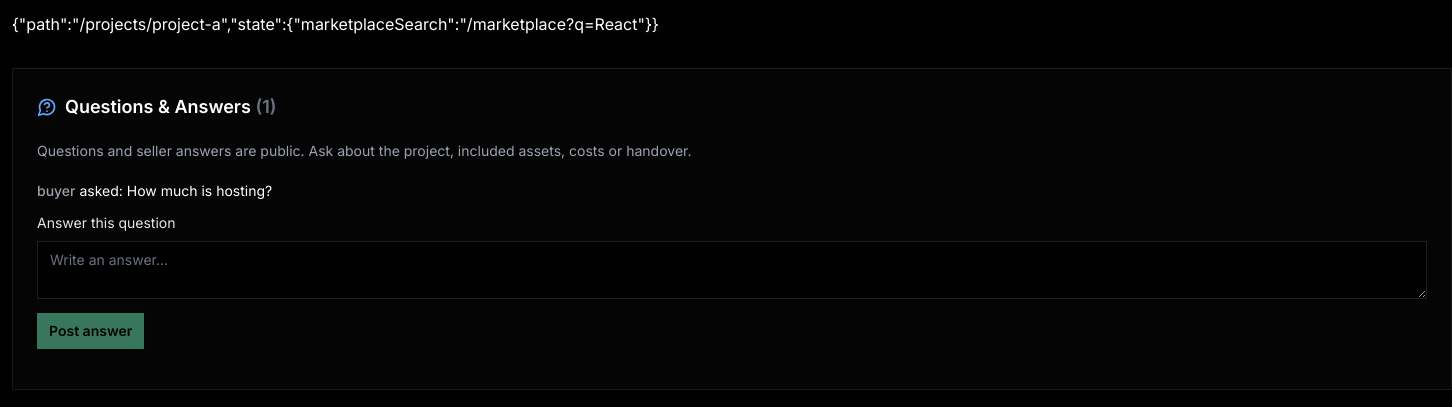
Test: pending seller answers cannot be submitted twice and failure keeps the answer
This screenshot has width=1452, height=407.
Type "Hosting is USD 12/month." into the text box labelled "Answer this question" at (732, 270), box [37,241,1427,299]
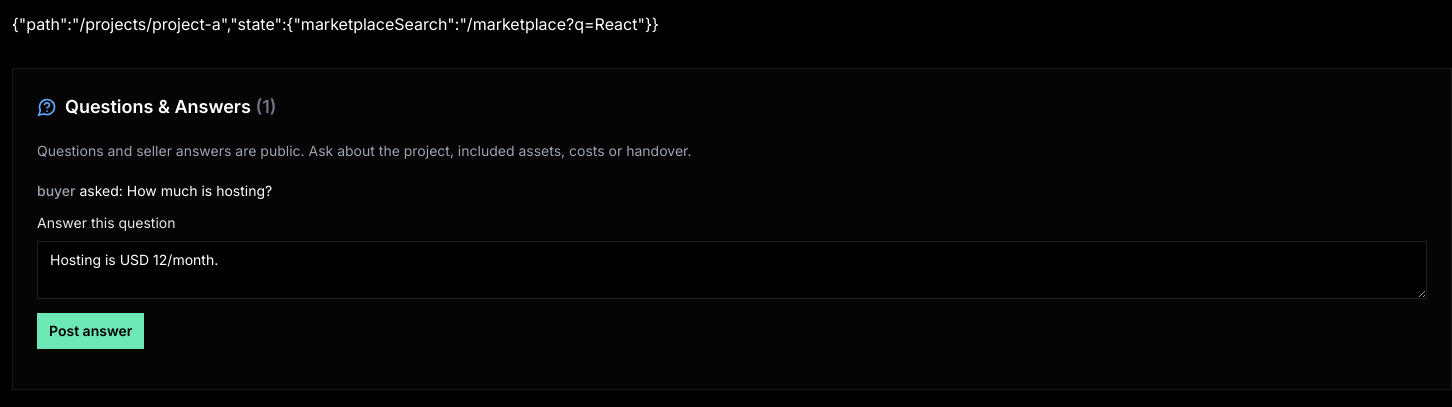
Click the button "Post answer" at (91, 331), box [37,313,144,349]
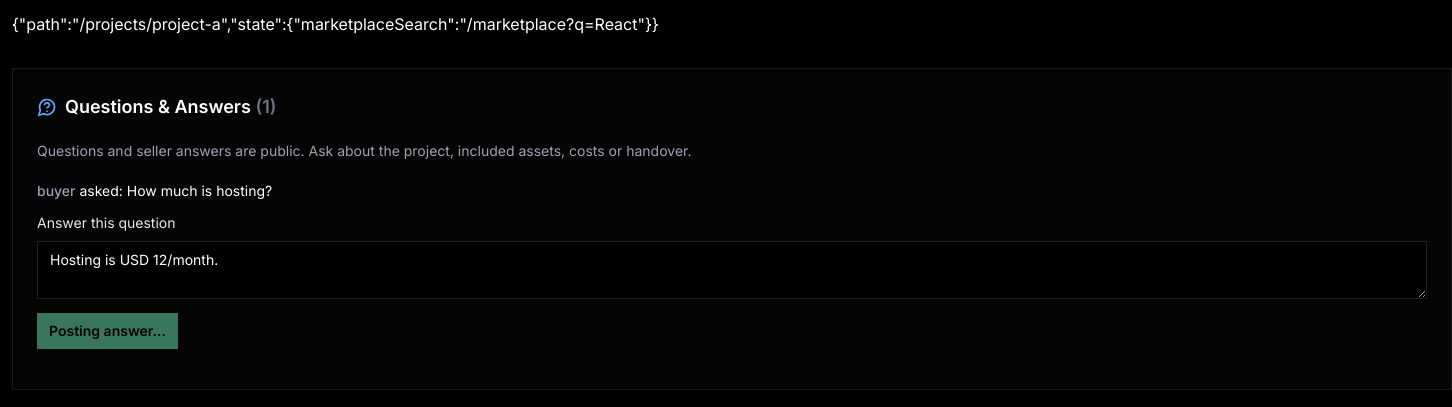
Expected: the button "Posting answer…" is disabled
Click the button "Posting answer…" at (107, 331), box [37,313,178,349]
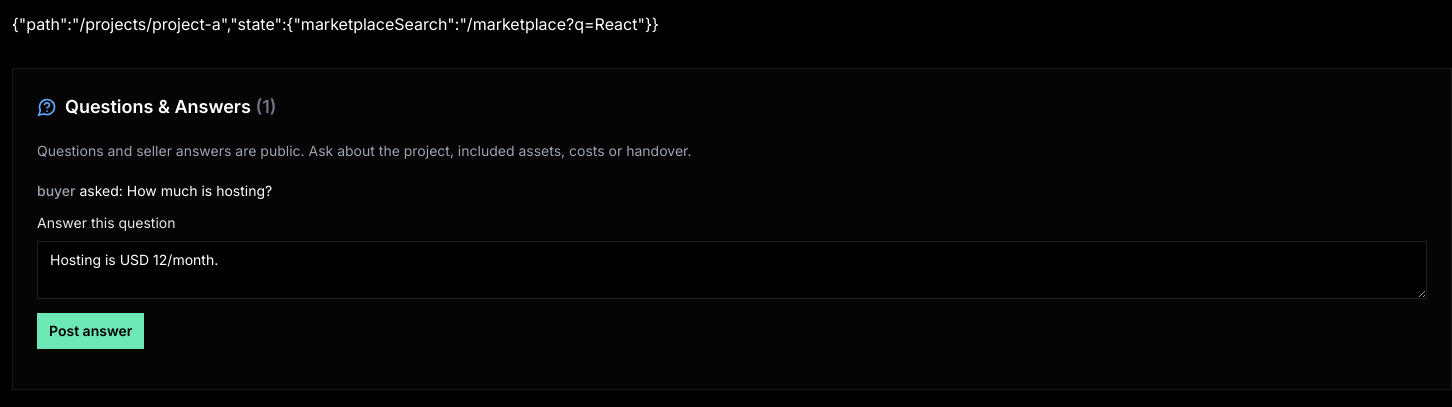
Expected: the button "Post answer" is enabled, [37,313,144,349]
